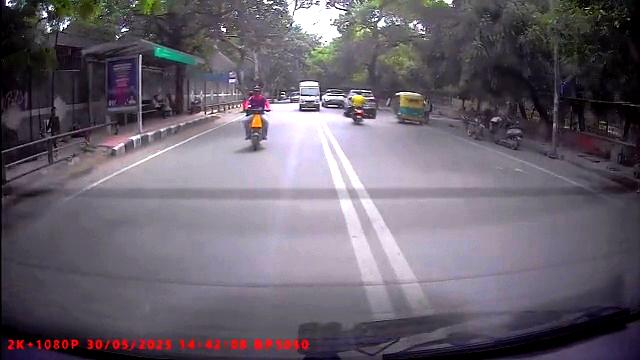motorcycle_without_helmet: (240, 87, 276, 151)
